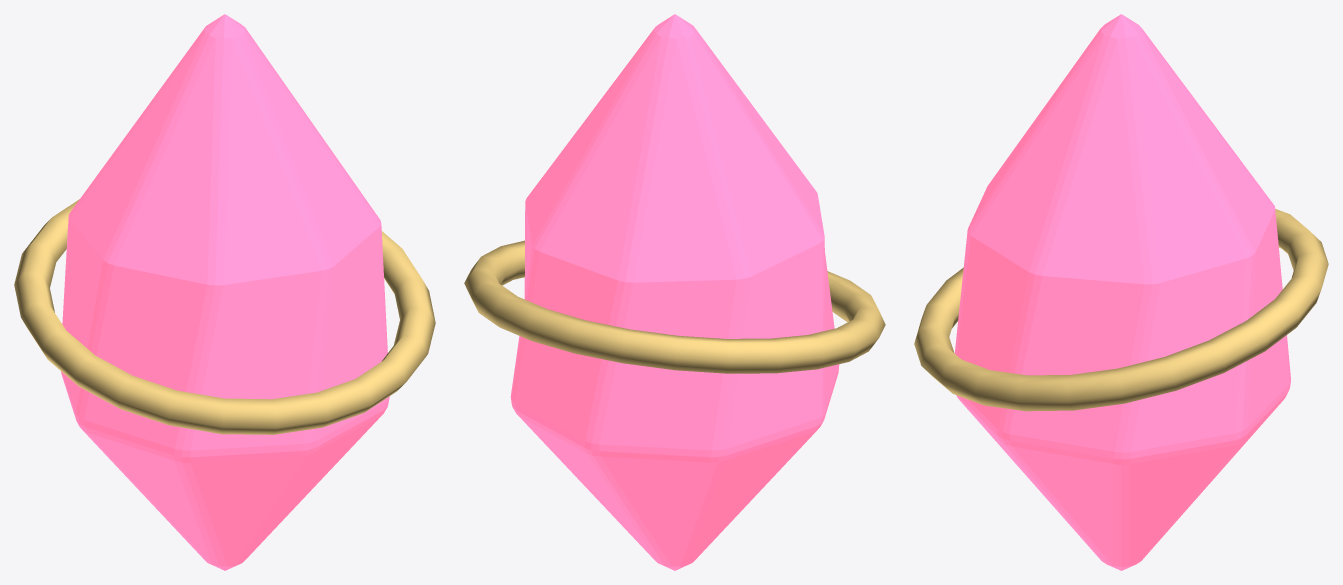
The model's file is SH10_Pickup_SoulGem_T3.fbx.
3 views of the same model, side by side, from view 1: azimuth 30°, elevation 25°; view 2: azimuth 150°, elevation 25°; view 3: azimuth 270°, elevation 25° (orthographic).
Parts seen in each view (by area): view 1: Heart, Band; view 2: Heart, Band; view 3: Heart, Band.
Boxes of the visible parts, left/top/right/bottom form: Heart: left=61, top=14, right=389, bottom=570; Band: left=14, top=199, right=435, bottom=434; Heart: left=510, top=14, right=839, bottom=570; Band: left=464, top=240, right=885, bottom=373; Heart: left=954, top=14, right=1290, bottom=570; Band: left=914, top=209, right=1328, bottom=411.
Bounding box in the file's own units: 0.59 × 0.8554 × 0.5771.
